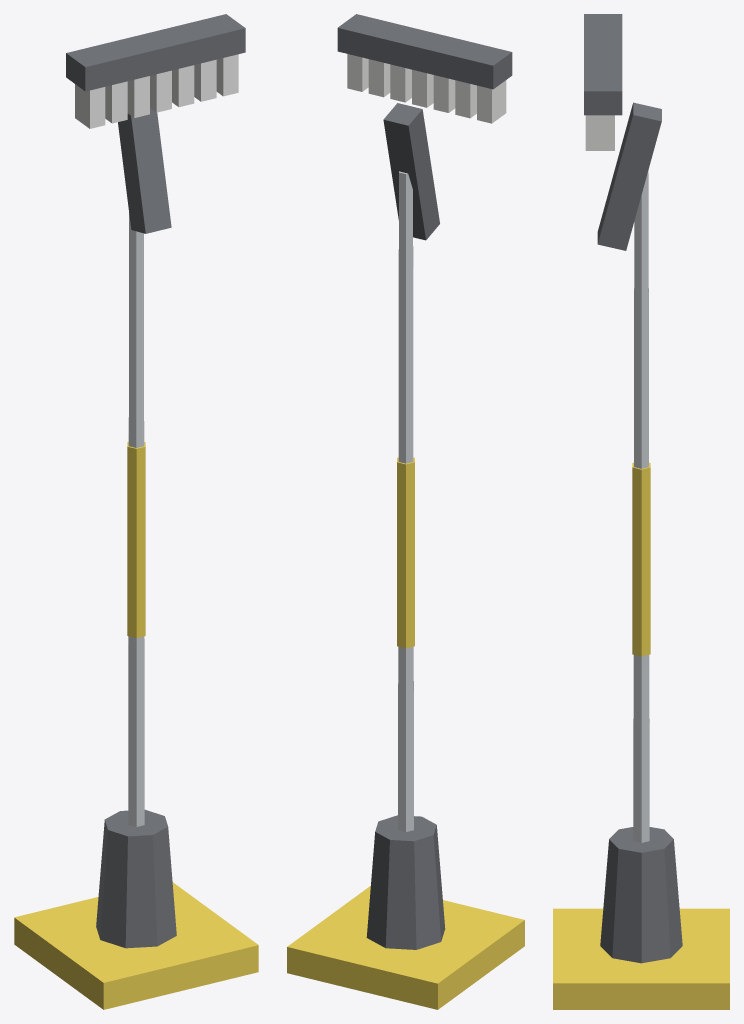
File: wind-and-solar-energy-farm-panel-cleaning-brush-114b6189__34065.glb
The picture shows the model from 3 angles, left to right: view 1: azimuth 30°, elevation 25°; view 2: azimuth 150°, elevation 25°; view 3: azimuth 270°, elevation 25°; orthographic projection. The views are drawn at different scales.
Visible parts, largest first — view 1: panel-cleaning-brush; view 2: panel-cleaning-brush; view 3: panel-cleaning-brush.
Part boxes in pixels (x1,y1,x2,y2): panel-cleaning-brush: (14,14,258,1009); panel-cleaning-brush: (287,14,524,1009); panel-cleaning-brush: (553,14,729,1009).
Size of the model in its own units: 0.6199 by 3.44 by 0.6001.
